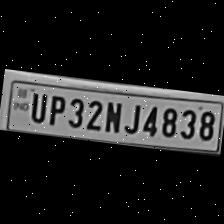2: (82, 94, 104, 132)
3: (176, 102, 198, 140), (64, 91, 86, 128)
4: (138, 99, 160, 136)
8: (156, 100, 178, 138), (194, 104, 216, 141)
J: (120, 98, 142, 134)
N: (100, 96, 123, 134)
P: (44, 90, 66, 127)
U: (26, 88, 48, 124)
